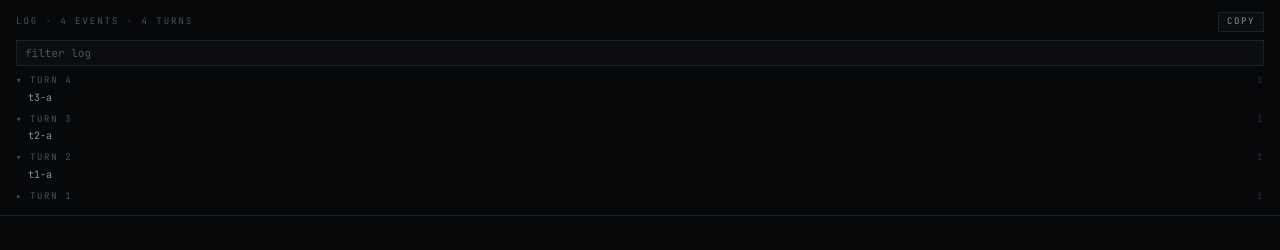
it: LogPanel › toggles a turn section open and closed on header click
Expected: the text "t0-a" is not shown
Click the button "▸ Turn 1 1" at (44, 196), box [16,190,1264,203]
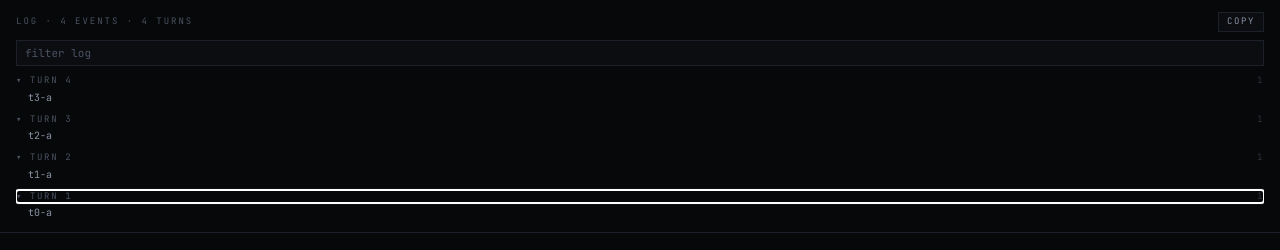
Expected: the list item "t0-a" is shown, [28,206,52,219]
Expected: the button "▾ Turn 1 1" is expanded
Collapse again.
Click the button "▾ Turn 1 1" at (44, 196), box [16,190,1264,203]
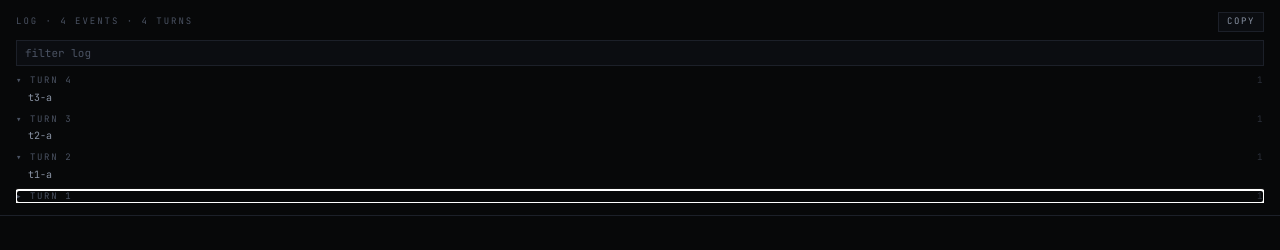
Expected: the list item "t0-a" is gone
Expected: the button "▸ Turn 1 1" is collapsed, [16,190,1264,203]
Click the button "▾ Turn 4 1" at (44, 80), box [16,74,1264,88]
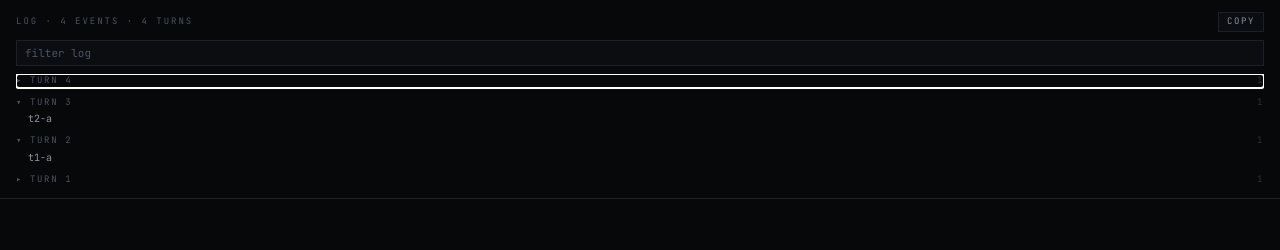
Expected: the button "▸ Turn 4 1" is collapsed, [16,74,1264,88]
Expected: the list item "t3-a" is gone
